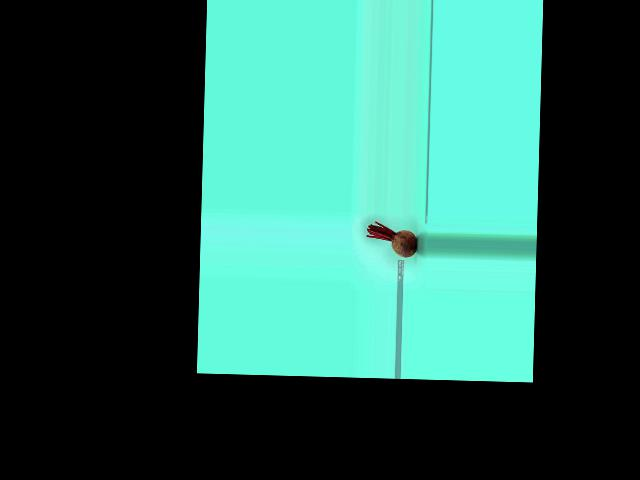beet: (366, 221, 417, 258)
